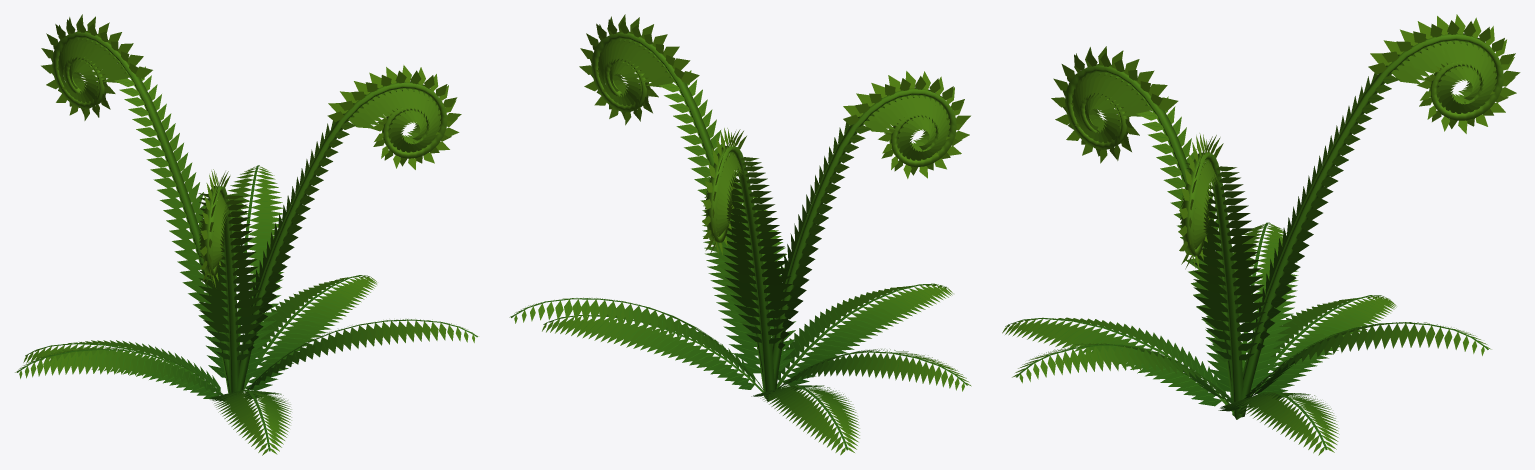
File: fern.glb
3 views of the same model, side by side, from view 1: azimuth 30°, elevation 25°; view 2: azimuth 150°, elevation 25°; view 3: azimuth 270°, elevation 25° (orthographic). The views are drawn at different scales.
Parts seen in each view (by area): view 1: fern; view 2: fern; view 3: fern.
Part boxes in pixels (bbox=[...]): fern: bbox=[15, 14, 478, 455]; fern: bbox=[509, 14, 971, 455]; fern: bbox=[1002, 14, 1520, 455].
Size of the model in its own units: 1.93 by 1.5 by 1.89.
